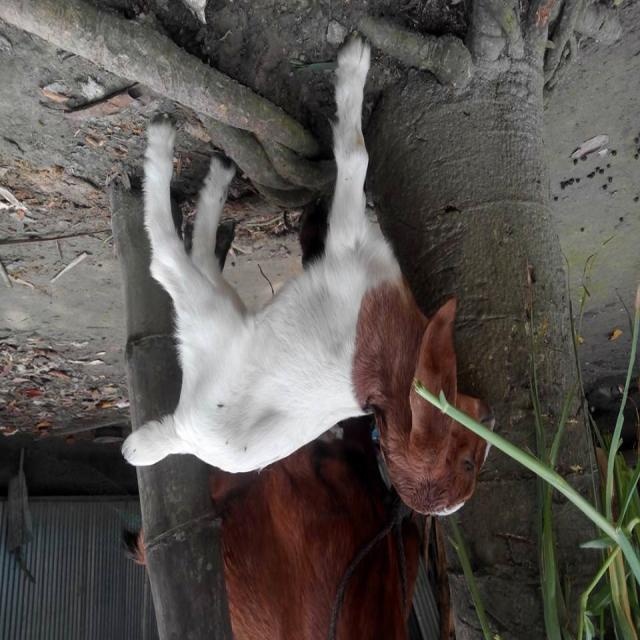Goat: (121, 35, 497, 520), (124, 200, 424, 640)
